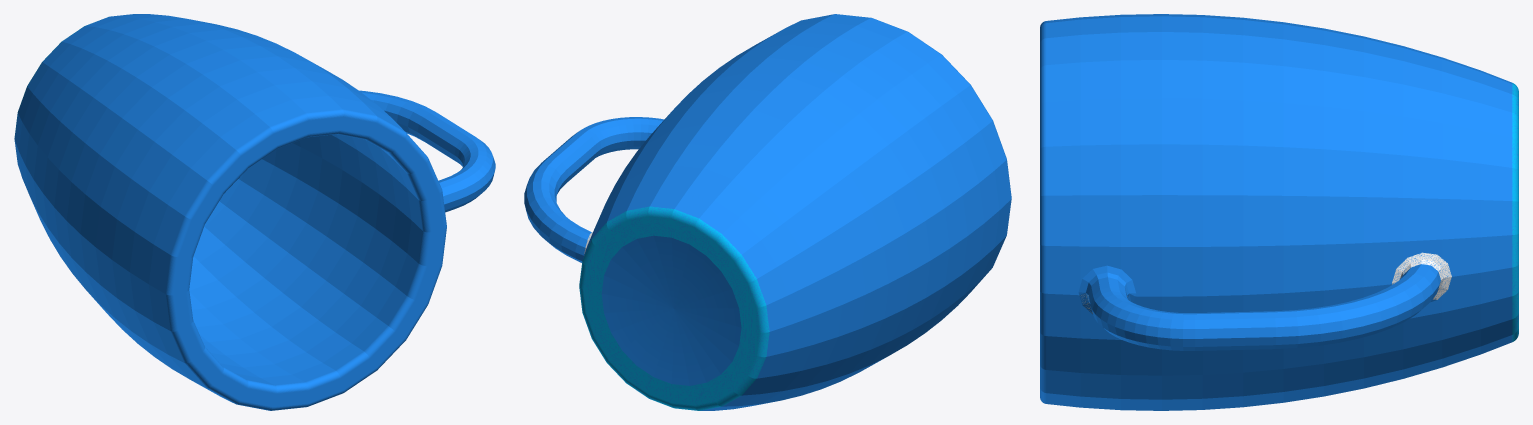
3 views of the same model, side by side, from view 1: azimuth 30°, elevation 25°; view 2: azimuth 150°, elevation 25°; view 3: azimuth 270°, elevation 25° (orthographic). The views are drawn at different scales.
Visible parts, largest first — view 1: mug; view 2: mug; view 3: mug.
Part boxes in pixels (bbox=[...]): mug: bbox=[14, 14, 495, 410]; mug: bbox=[524, 14, 1011, 410]; mug: bbox=[1040, 14, 1518, 410].
Size of the model in its own units: 64.84 by 49.13 by 59.06.
